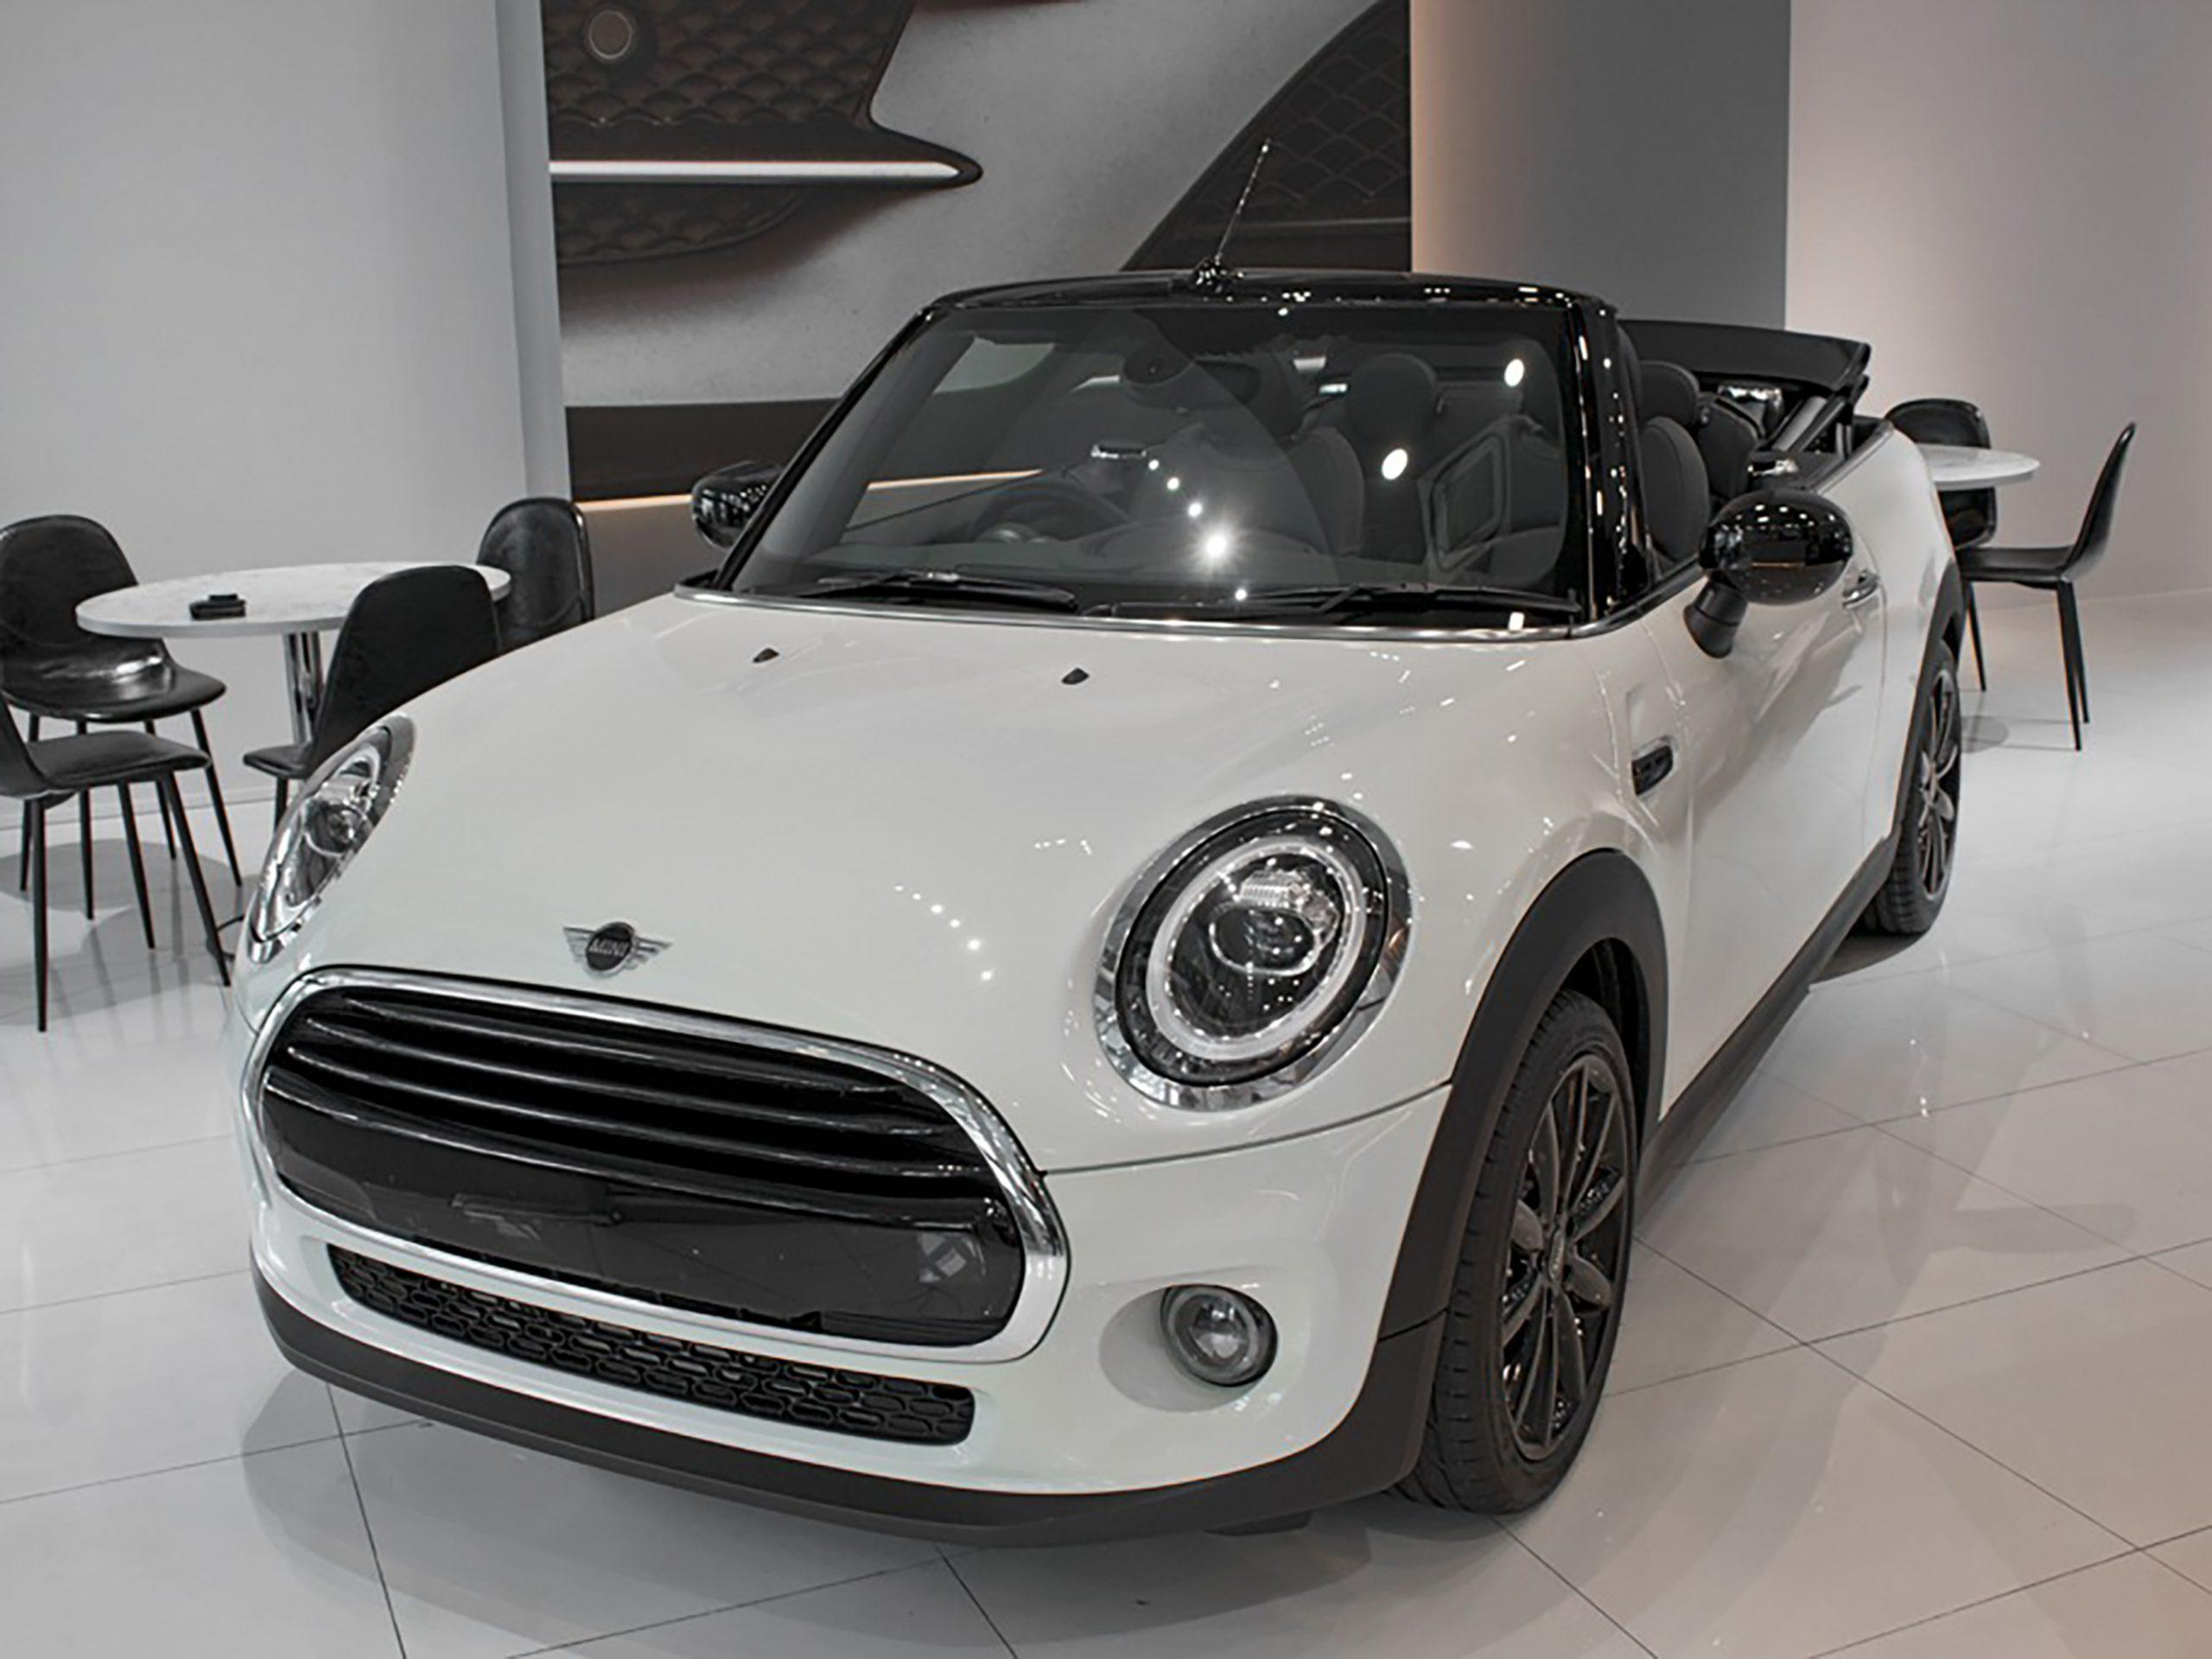car: (230, 277, 2020, 1500)
